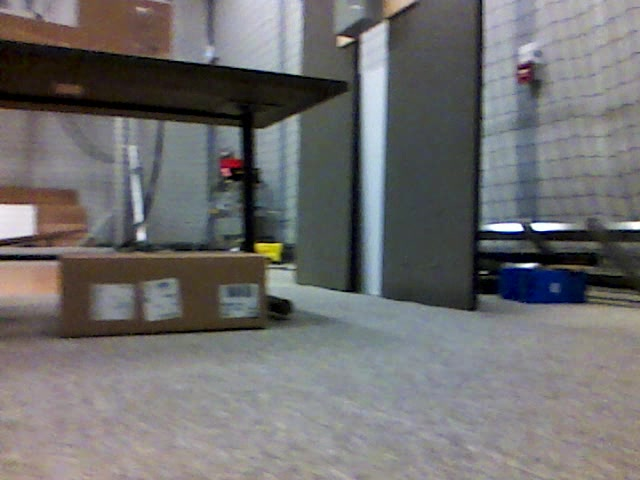box: (62, 255, 266, 333), (1, 2, 172, 59)
